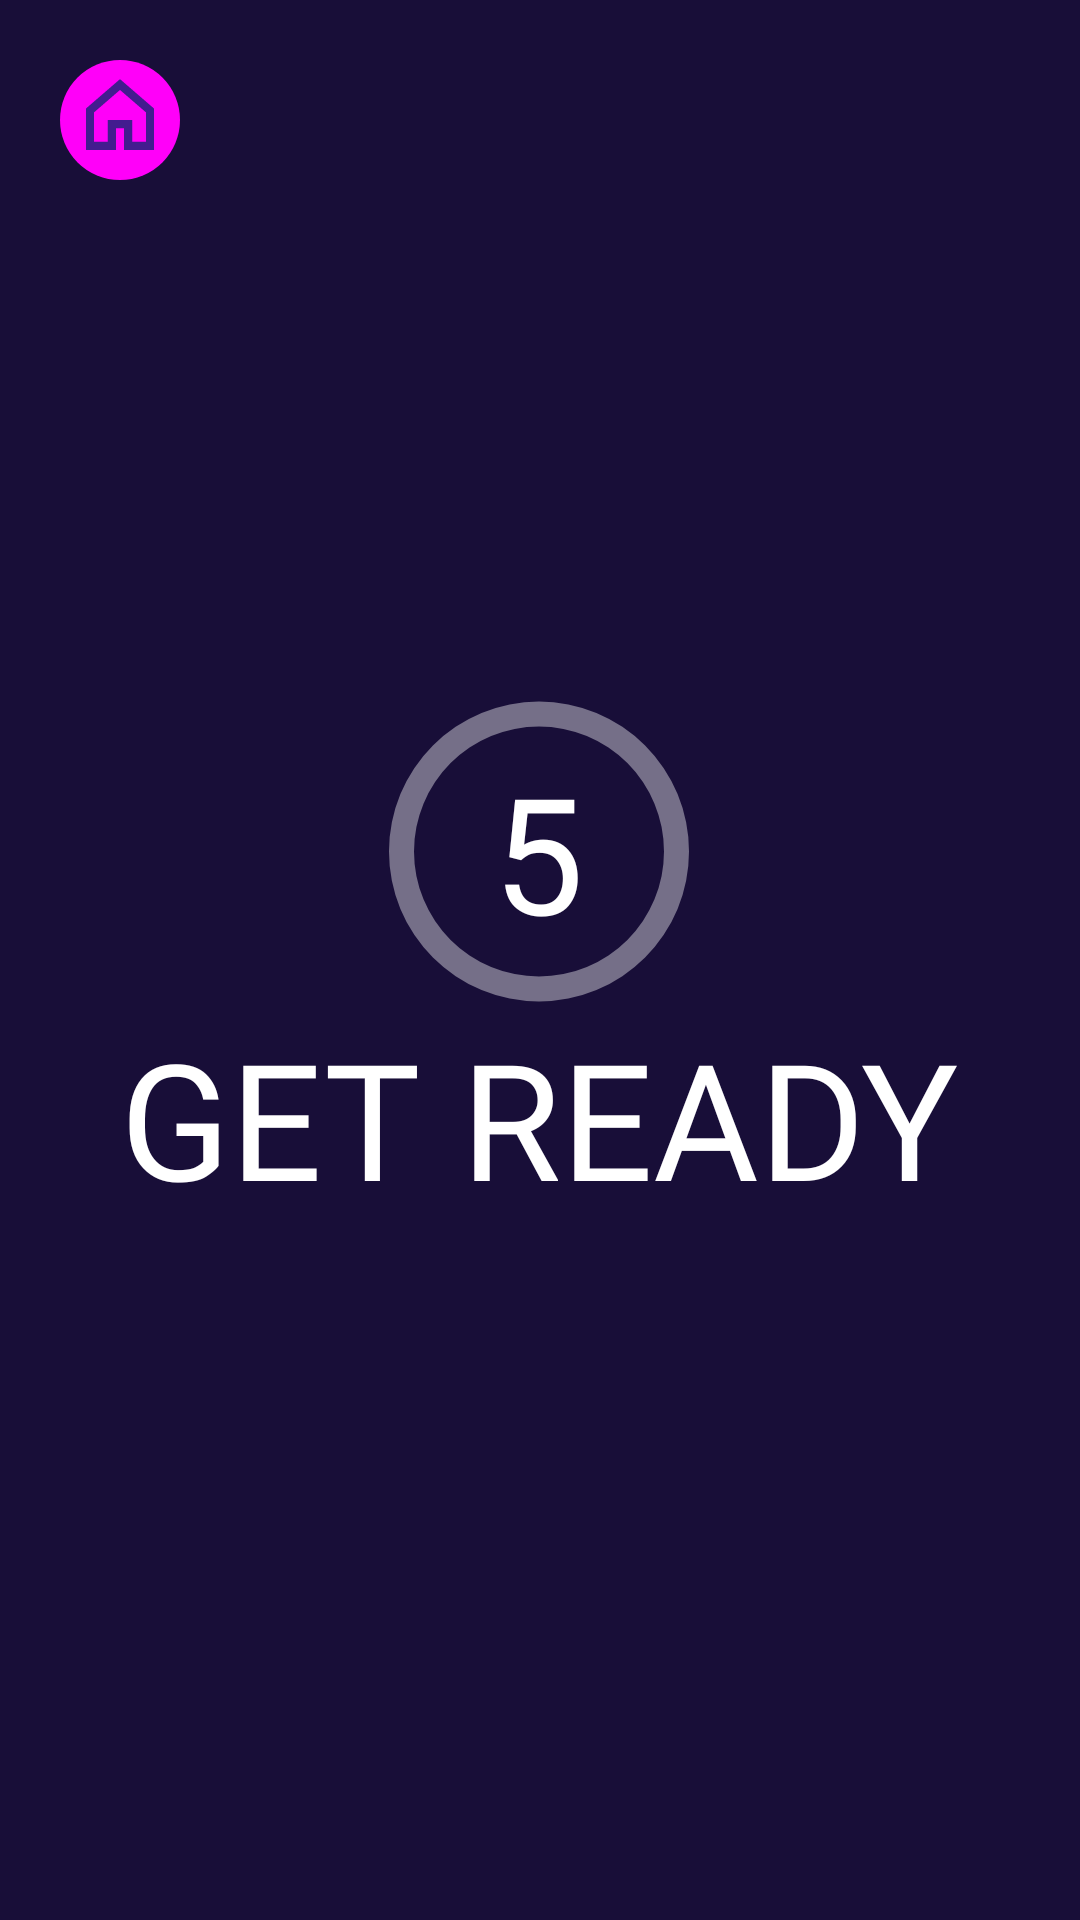

Icon click points for this 1080*1920 phone screenshot, format (x=x, y=y):
home: (x=120, y=120)
